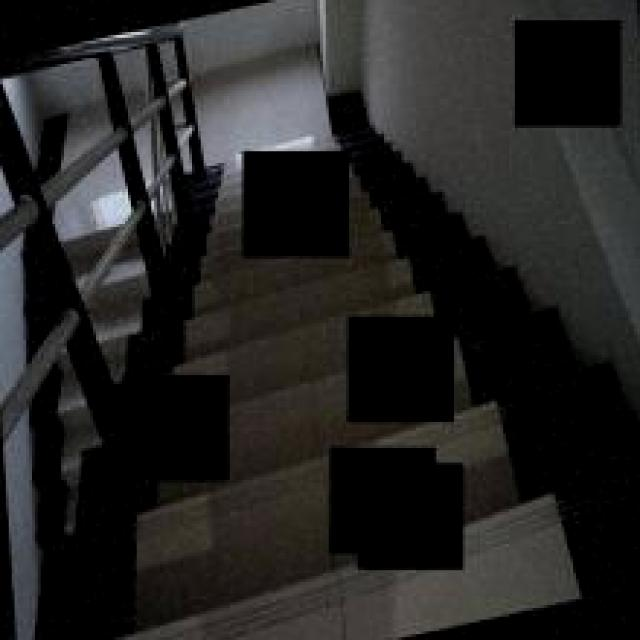downstair: (193, 266, 336, 370)
